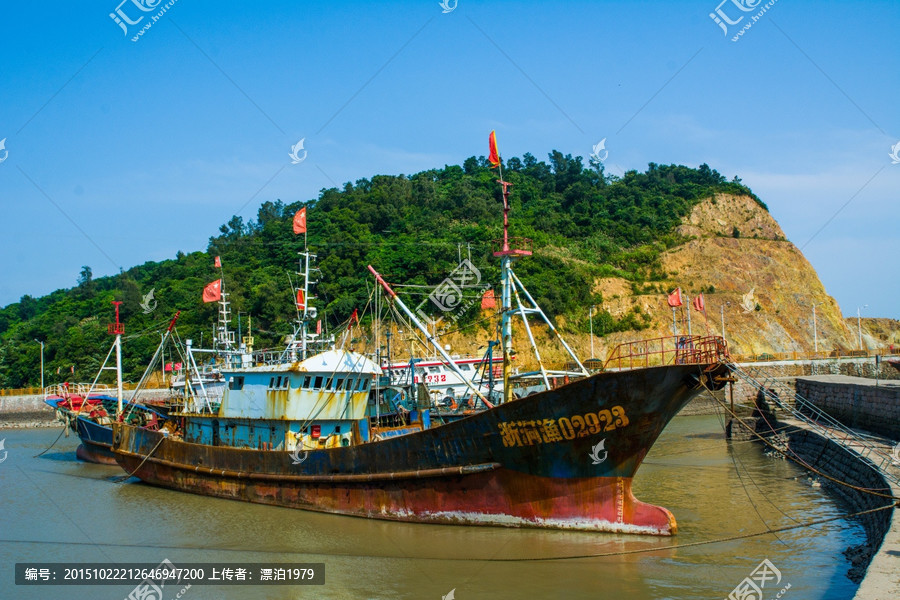otherboat: (88, 297, 740, 535)
